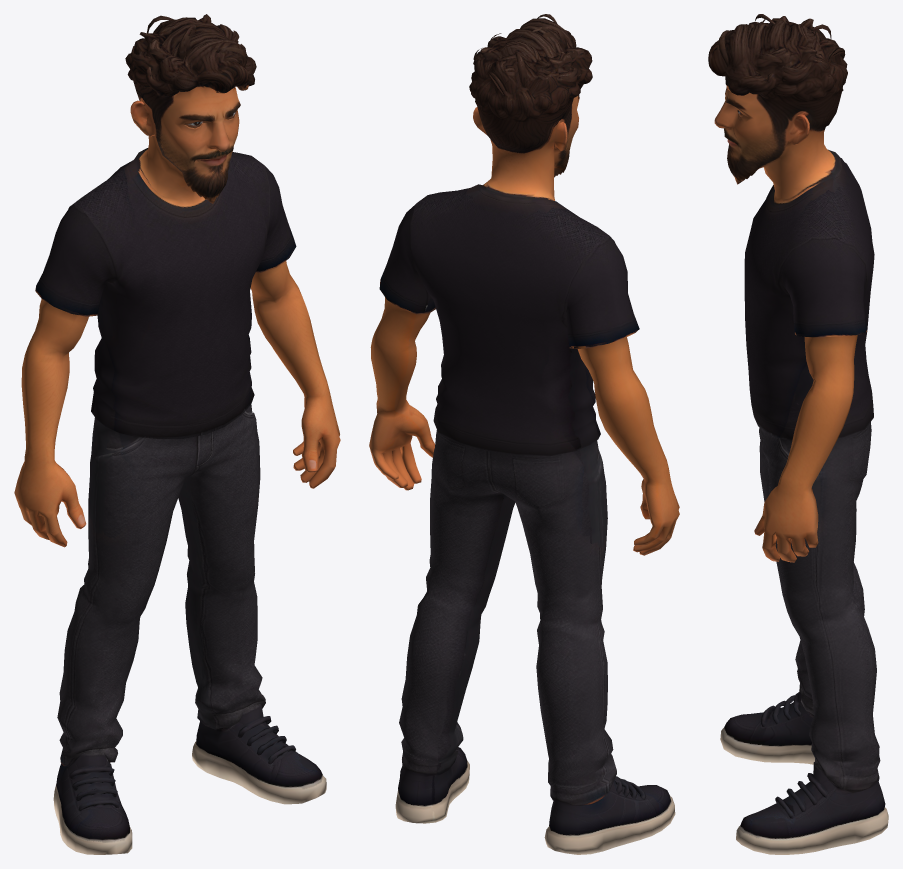
File: avatar4-preview.glb
The picture shows the model from 3 angles, left to right: view 1: azimuth 30°, elevation 25°; view 2: azimuth 150°, elevation 25°; view 3: azimuth 270°, elevation 25°; orthographic projection. The views are drawn at different scales.
Visible parts, largest first — view 1: tripo_34993aec_67c3_49f3_88ba_0355531d7aa6; view 2: tripo_34993aec_67c3_49f3_88ba_0355531d7aa6; view 3: tripo_34993aec_67c3_49f3_88ba_0355531d7aa6.
Part boxes in pixels (x1,y1,x2,y2): tripo_34993aec_67c3_49f3_88ba_0355531d7aa6: (14,14,340,854); tripo_34993aec_67c3_49f3_88ba_0355531d7aa6: (369,14,679,854); tripo_34993aec_67c3_49f3_88ba_0355531d7aa6: (708,14,888,854).
Bounding box in the file's own units: 0.4087 × 0.9995 × 0.2104.
Materials: 1 (1 with a texture image).
